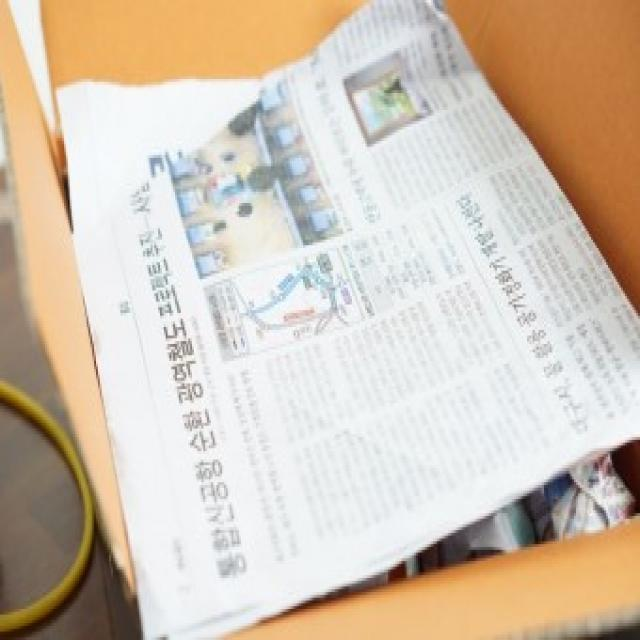reuseable_paper: (101, 6, 634, 554)
